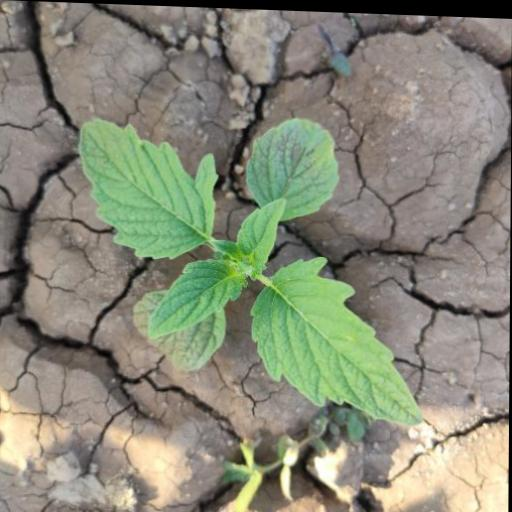crop: (62, 102, 417, 415)
